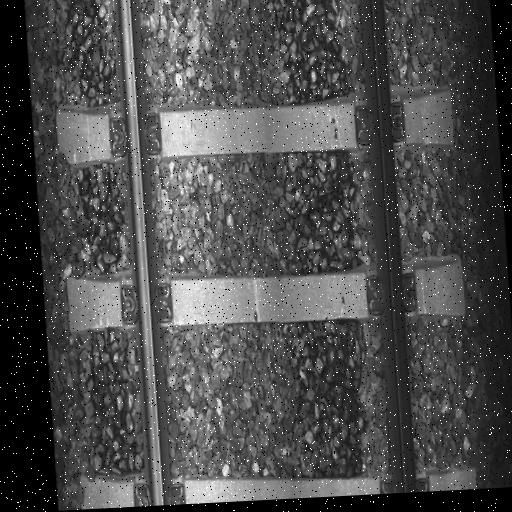clip: (119, 275, 174, 327), (353, 95, 408, 143), (365, 265, 418, 313), (106, 112, 161, 158), (132, 477, 183, 504), (377, 465, 429, 491)
sleeper: (65, 253, 467, 337), (52, 85, 456, 167), (81, 459, 475, 507)
